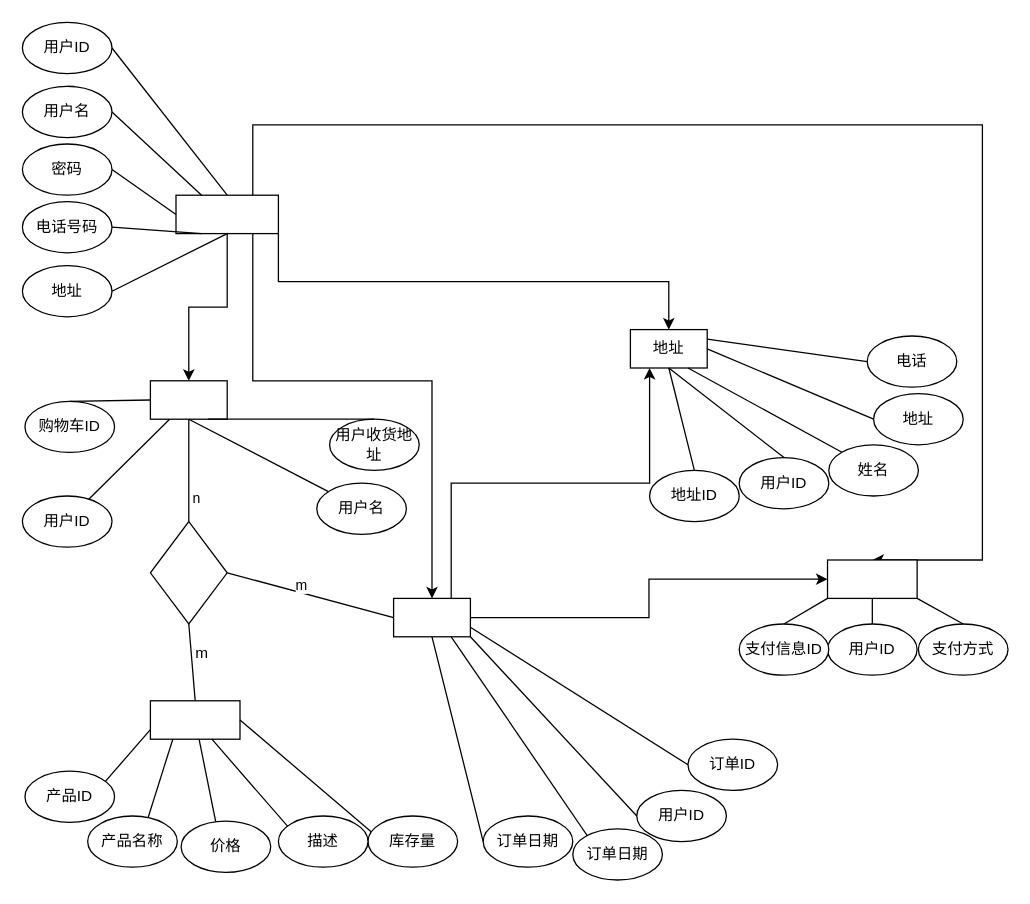
Some shapes in this 1030 by 904 pixel diagram are drawn without their labels. Here are the shapes that lost their labels. From the top down, the centre of each, then its label:
At point 226,214: "用户".
At point 188,399: "购物车".
At point 871,578: "支付信息".
At point 431,617: "订单".
At point 194,719: "产品".
